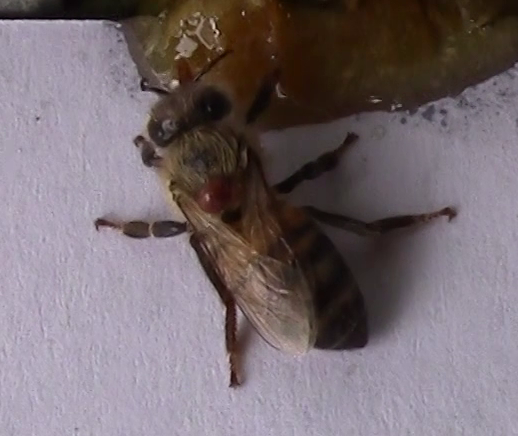Varroa destructor: (194, 172, 242, 214)
